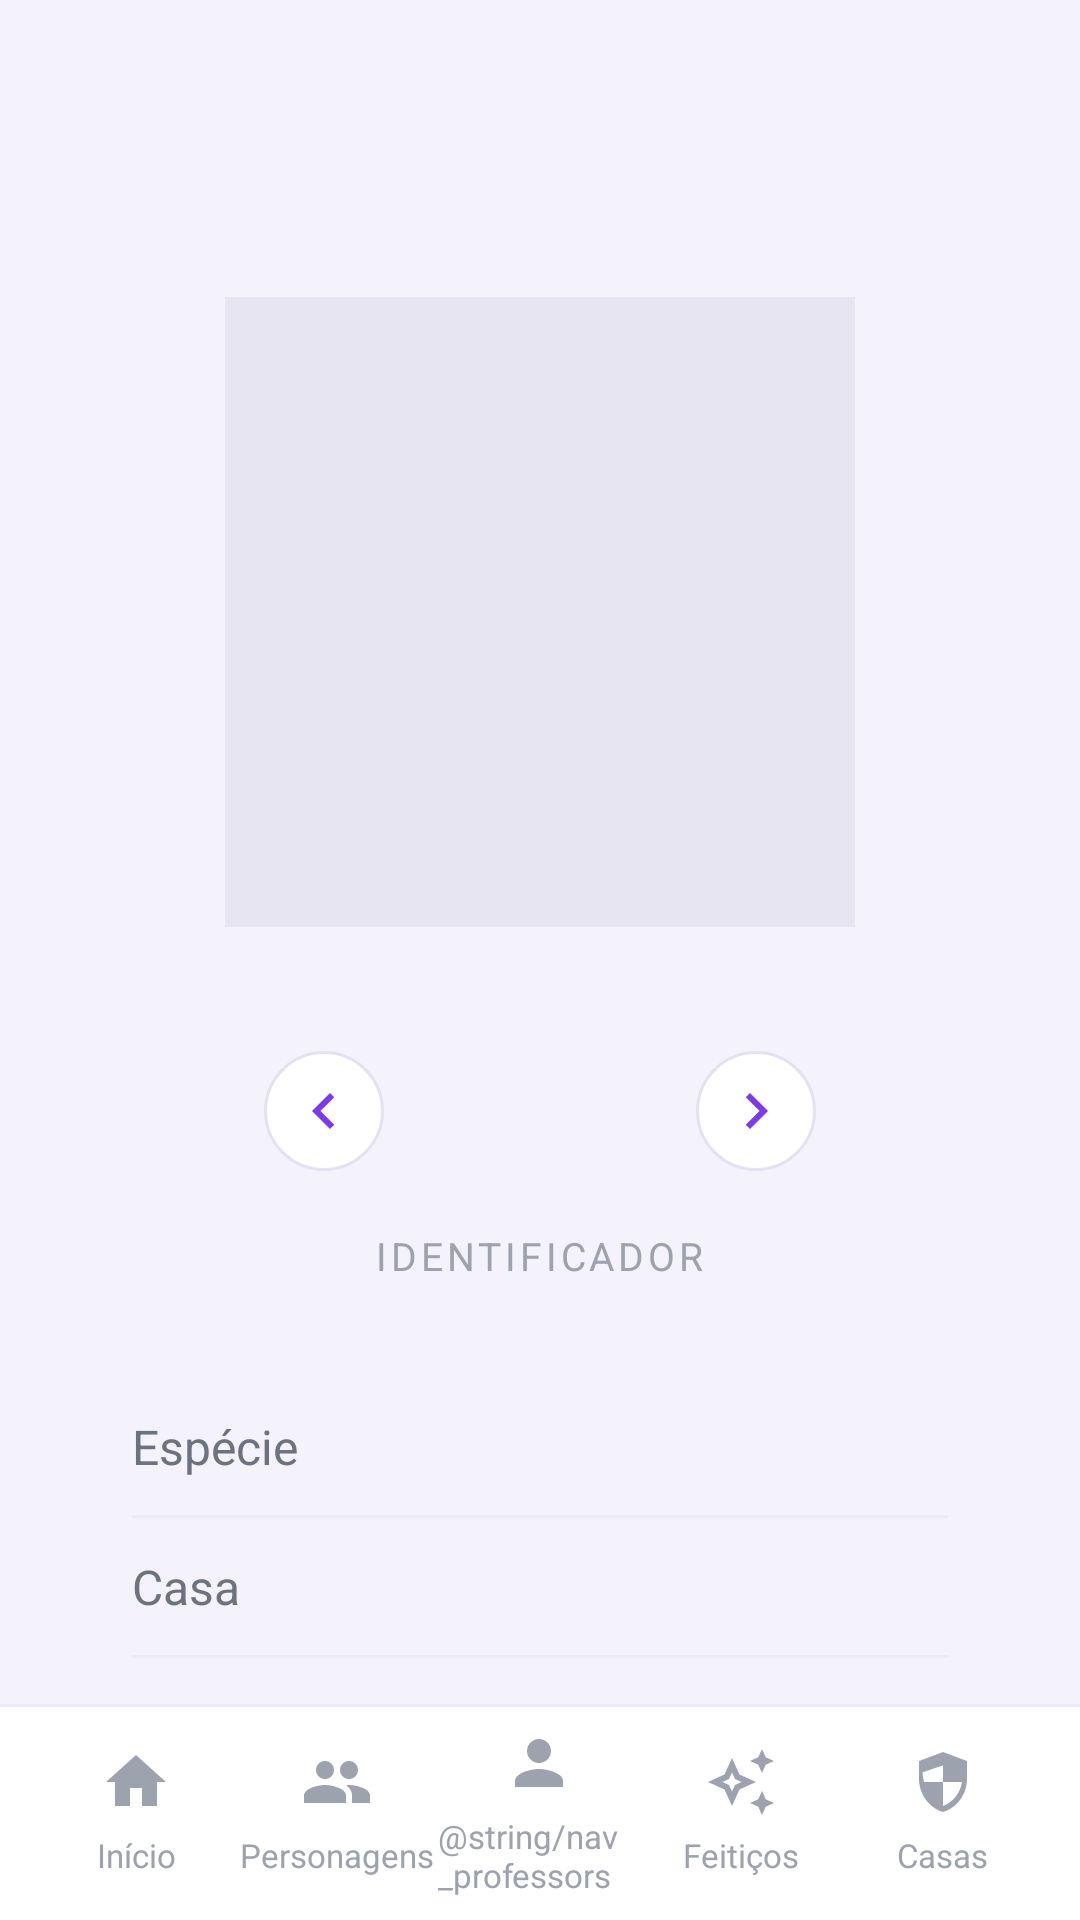

Named icons in this screenshot (1080px x 1920px) and their bounding boxes, BBox(x1, y1, x2, y2):
Anterior: BBox(264, 1051, 384, 1171)
Próximo: BBox(696, 1051, 816, 1171)
